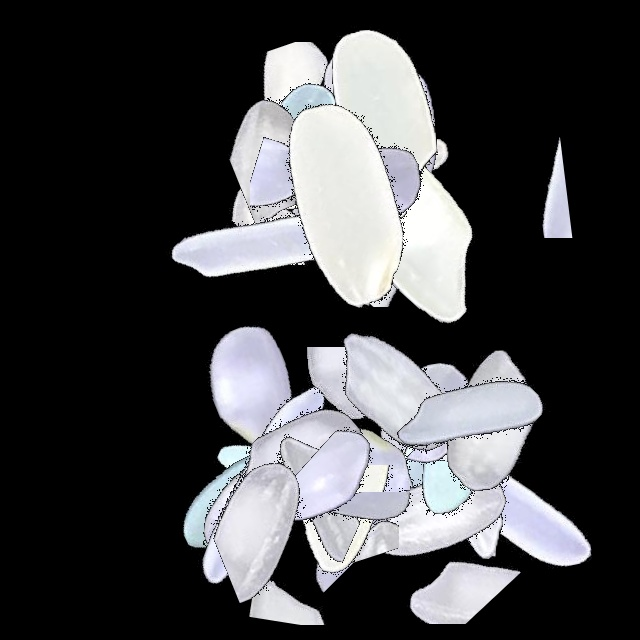Broken: (184, 42, 434, 213), (159, 399, 409, 569), (210, 390, 380, 640), (182, 72, 432, 224), (271, 106, 521, 251), (275, 170, 525, 307), (288, 385, 425, 635), (281, 28, 415, 278), (315, 497, 565, 624), (216, 346, 466, 472), (263, 465, 513, 589), (180, 147, 430, 265), (250, 63, 368, 313), (261, 390, 377, 640), (322, 63, 438, 313), (383, 125, 633, 238), (245, 492, 495, 603), (312, 63, 412, 313), (333, 75, 432, 325), (338, 419, 588, 515), (179, 530, 429, 625), (310, 390, 399, 640), (411, 378, 494, 628), (356, 90, 432, 340)
Full: (228, 110, 478, 360), (305, 315, 555, 565), (224, 34, 474, 284), (183, 362, 433, 612), (231, 0, 481, 250), (300, 286, 550, 536), (303, 347, 553, 597), (265, 22, 515, 272), (390, 383, 640, 633), (338, 365, 588, 615), (143, 354, 393, 604), (251, 361, 501, 611), (319, 390, 569, 640), (126, 384, 376, 634), (125, 262, 375, 512), (139, 359, 389, 609), (148, 116, 398, 366), (170, 330, 420, 580), (272, 0, 522, 250), (282, 98, 532, 348), (261, 0, 511, 250), (365, 294, 615, 544), (239, 63, 489, 313), (215, 80, 465, 330), (267, 268, 517, 518), (344, 294, 594, 544)
